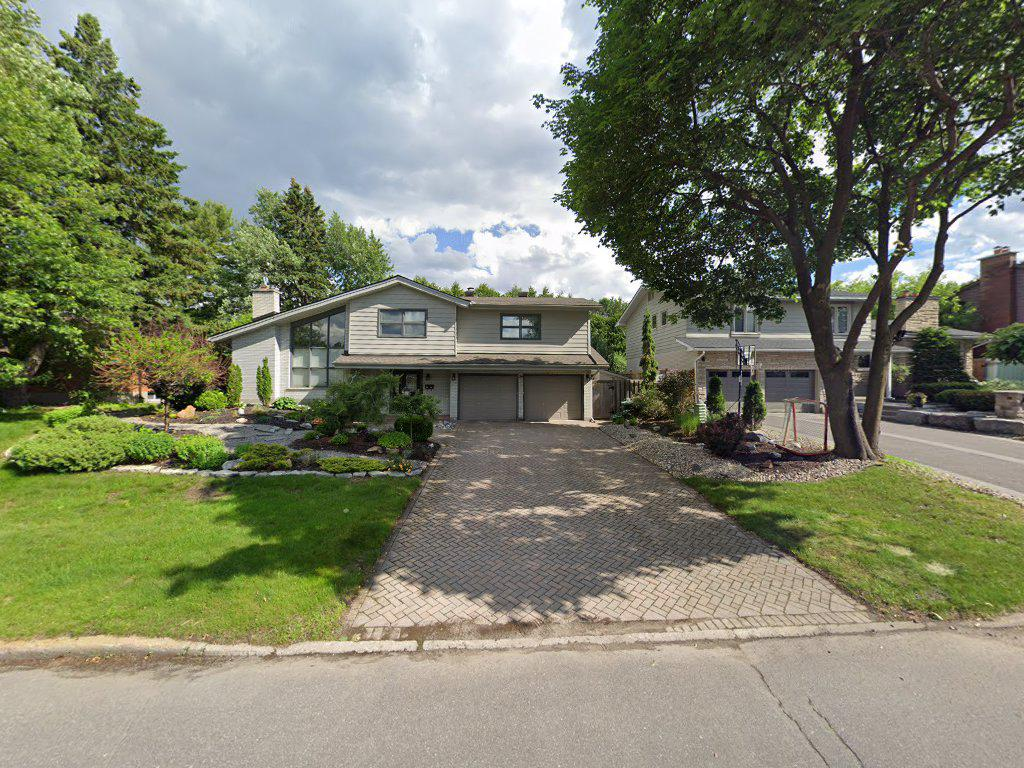trunk: (823, 325, 889, 465)
